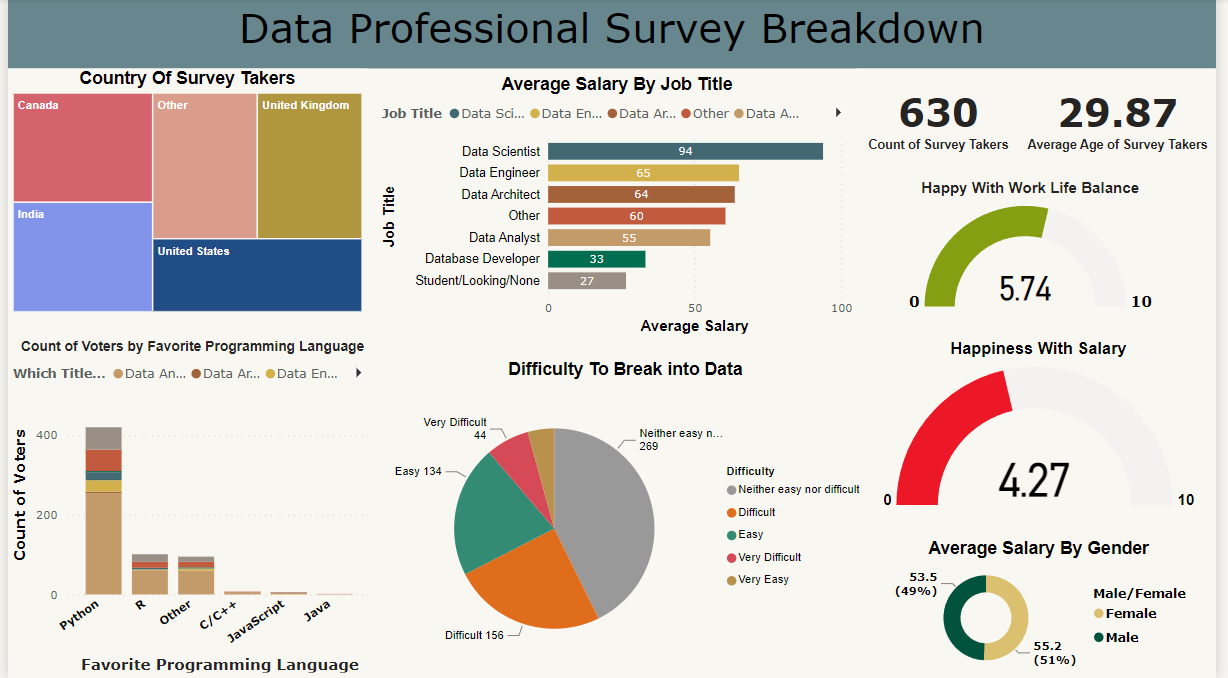

The dashboard page shown, as its layout file describes it:
{"tool":"powerbi","page":{"name":"Page 1","canvas":[1280,720],"ordinal":0},"visuals":[{"type":"textbox","box":[0,0,1279.8,74.4],"z":0},{"type":"card","fields":{"Values":["Count(Data Professional Survey.Unique ID)"]},"box":[899.6,74.7,171.7,106.5],"z":1000},{"type":"card","fields":{"Values":["Avg(Data Professional Survey.Q10 - Current Age)"]},"box":[1071.3,74.7,208.2,106.5],"z":2000},{"type":"barChart","title":"Average Salary By Job Title","fields":{"Category":["Data Professional Survey.Q1 - Which Title Best Fits your Current Role?.1"],"Y":["Avg(Data Professional Survey.Average Salary)"],"Series":["Data Professional Survey.Q1 - Which Title Best Fits your Current Role?.1"]},"box":[391,81.1,508.6,279.7],"z":3000},{"type":"columnChart","title":"Count of Voters by Favorite Programming Language","fields":{"Category":["Data Professional Survey.Q5 - Favorite Programming Language.1"],"Y":["CountNonNull(Data Professional Survey.Unique ID)"],"Series":["Data Professional Survey.Q1 - Which Title Best Fits your Current Role?.1"]},"box":[0,360.8,391,359.2],"z":4000},{"type":"treemap","title":"Country Of Survey Takers","fields":{"Group":["Data Professional Survey.Q11 - Which Country do you live in?.1"],"Values":["Count(Data Professional Survey.Q11 - Which Country do you live in?.1)"]},"box":[0,74.7,379.9,262.3],"z":5000},{"type":"gauge","title":"Happy With Work Life Balance","fields":{"Y":["Avg(Data Professional Survey.Q6 - How Happy are you in your Current Position with the following? (Work/Life Balance))"],"MinValue":["Min(Data Professional Survey.Q6 - How Happy are you in your Current Position with the following? (Work/Life Balance))"],"MaxValue":["Max(Data Professional Survey.Q6 - How Happy are you in your Current Position with the following? (Work/Life Balance))"]},"box":[899.6,192.3,367.2,144.6],"z":6000},{"type":"gauge","title":"Happiness With Salary","fields":{"Y":["Avg(Data Professional Survey.Q6 - How Happy are you in your Current Position with the following? (Salary))"],"MaxValue":["Max(Data Professional Survey.Q6 - How Happy are you in your Current Position with the following? (Salary))"],"MinValue":["Min(Data Professional Survey.Q6 - How Happy are you in your Current Position with the following? (Salary))"]},"box":[917.1,360.8,349.7,190.7],"z":7000},{"type":"donutChart","title":"Average Salary By Gender","fields":{"Category":["Data Professional Survey.Q9 - Male/Female?"],"Y":["Avg(Data Professional Survey.Average Salary)"]},"box":[917.1,572.2,349.7,147.8],"z":8000},{"type":"pieChart","title":"Difficulty To Break into Data","fields":{"Category":["Data Professional Survey.Q7 - How difficult was it for you to break into Data?"],"Y":["CountNonNull(Data Professional Survey.Q7 - How difficult was it for you to break into Data?)"]},"box":[391,383,526.1,337],"z":9000}]}

Visuals, with their boxes in screenshot pixels (x1, y1, x2, y2), scaled from the page's 1280x720 canvas onto the 1228x678 screenshot:
textbox: [0, 0, 1227, 70]
card - Count(Data Professional Survey.Unique ID): [863, 70, 1028, 171]
card - Avg(Data Professional Survey.Q10 - Current Age): [1028, 70, 1227, 171]
"Average Salary By Job Title" barChart: [375, 76, 863, 340]
"Count of Voters by Favorite Programming Language" columnChart: [0, 340, 375, 677]
"Country Of Survey Takers" treemap: [0, 70, 364, 317]
"Happy With Work Life Balance" gauge: [863, 181, 1215, 317]
"Happiness With Salary" gauge: [880, 340, 1215, 519]
"Average Salary By Gender" donutChart: [880, 539, 1215, 677]
"Difficulty To Break into Data" pieChart: [375, 361, 880, 677]
